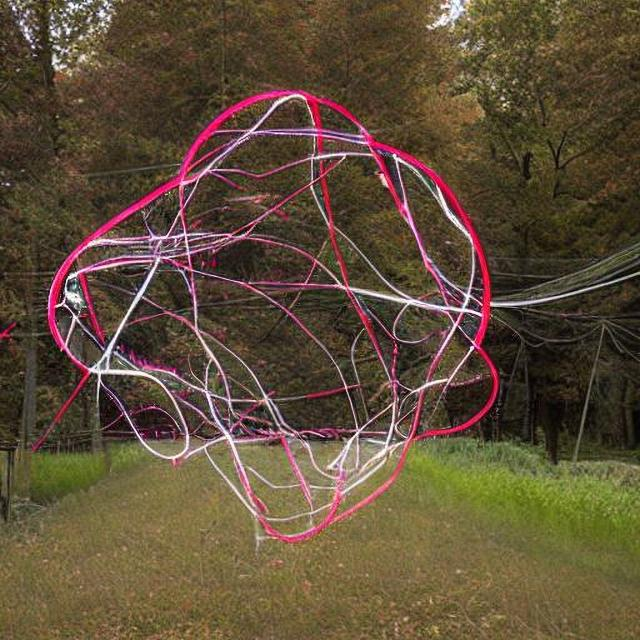floating object: (38, 62, 532, 514)
